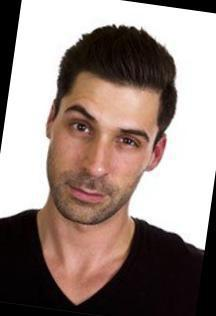Sober: (50, 74, 153, 215)
